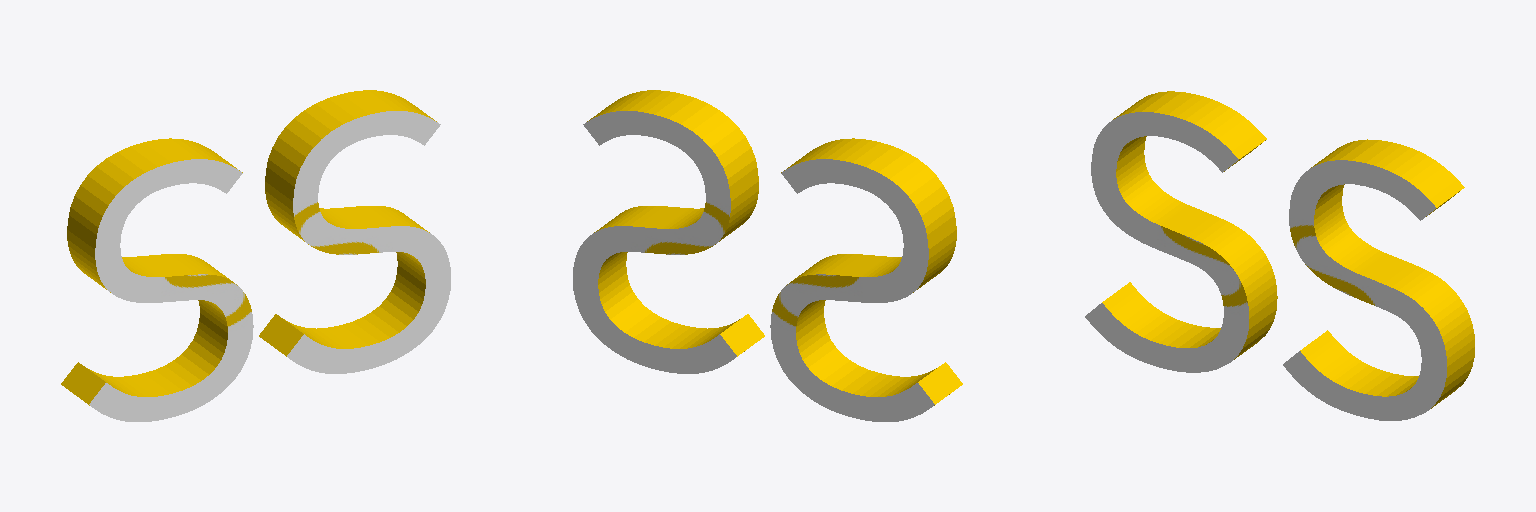
The picture shows the model from 3 angles: view 1: azimuth 30°, elevation 25°; view 2: azimuth 150°, elevation 25°; view 3: azimuth 330°, elevation 25°; orthographic projection.
Size of the model in its own units: 122 by 81.97 by 16.4.
Materials: 5 (1 with a texture image).